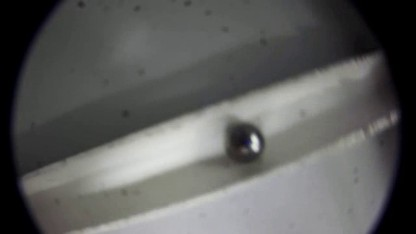gangzhu: (224, 118, 266, 162)
